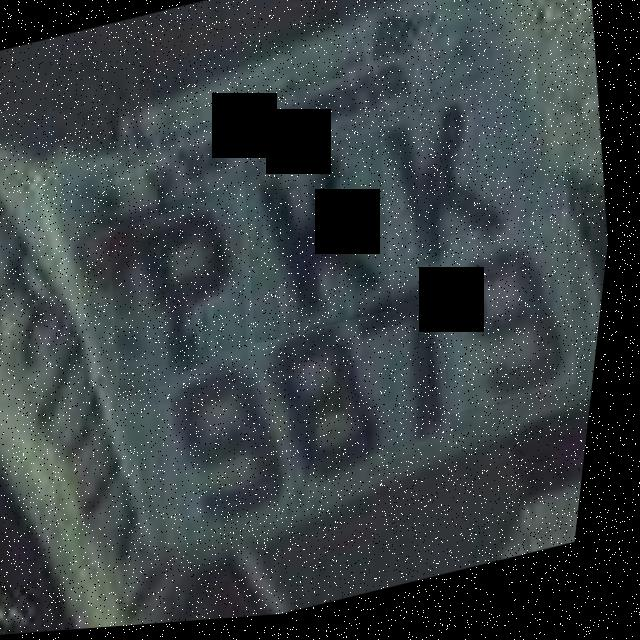7: (346, 259, 500, 463)
8: (258, 295, 430, 503)
9: (149, 339, 324, 552), (430, 215, 601, 423)
K: (232, 134, 416, 350)
P: (97, 187, 273, 400)
